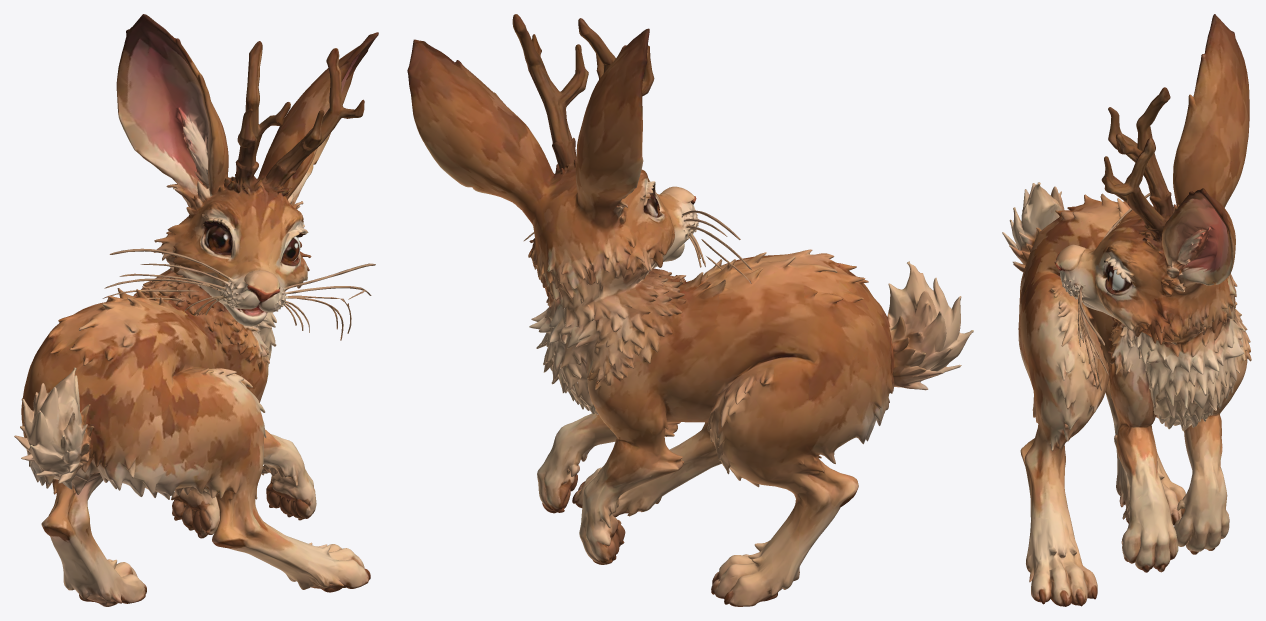
Rendered from figurine-jackalope.glb.
3 views of the same model, side by side, from view 1: azimuth 30°, elevation 25°; view 2: azimuth 150°, elevation 25°; view 3: azimuth 270°, elevation 25° (orthographic). The views are drawn at different scales.
Parts seen in each view (by area): view 1: tripo_node_7bc36355-8ce4-46aa-ab05-a358ebd015d1; view 2: tripo_node_7bc36355-8ce4-46aa-ab05-a358ebd015d1; view 3: tripo_node_7bc36355-8ce4-46aa-ab05-a358ebd015d1.
Part boxes in pixels (x1,y1,x2,y2): tripo_node_7bc36355-8ce4-46aa-ab05-a358ebd015d1: (14,14,378,606); tripo_node_7bc36355-8ce4-46aa-ab05-a358ebd015d1: (407,14,973,606); tripo_node_7bc36355-8ce4-46aa-ab05-a358ebd015d1: (1002,14,1251,606).
Size of the model in its own units: 0.8306 by 0.9808 by 0.4153.
Materials: 1 (1 with a texture image).
